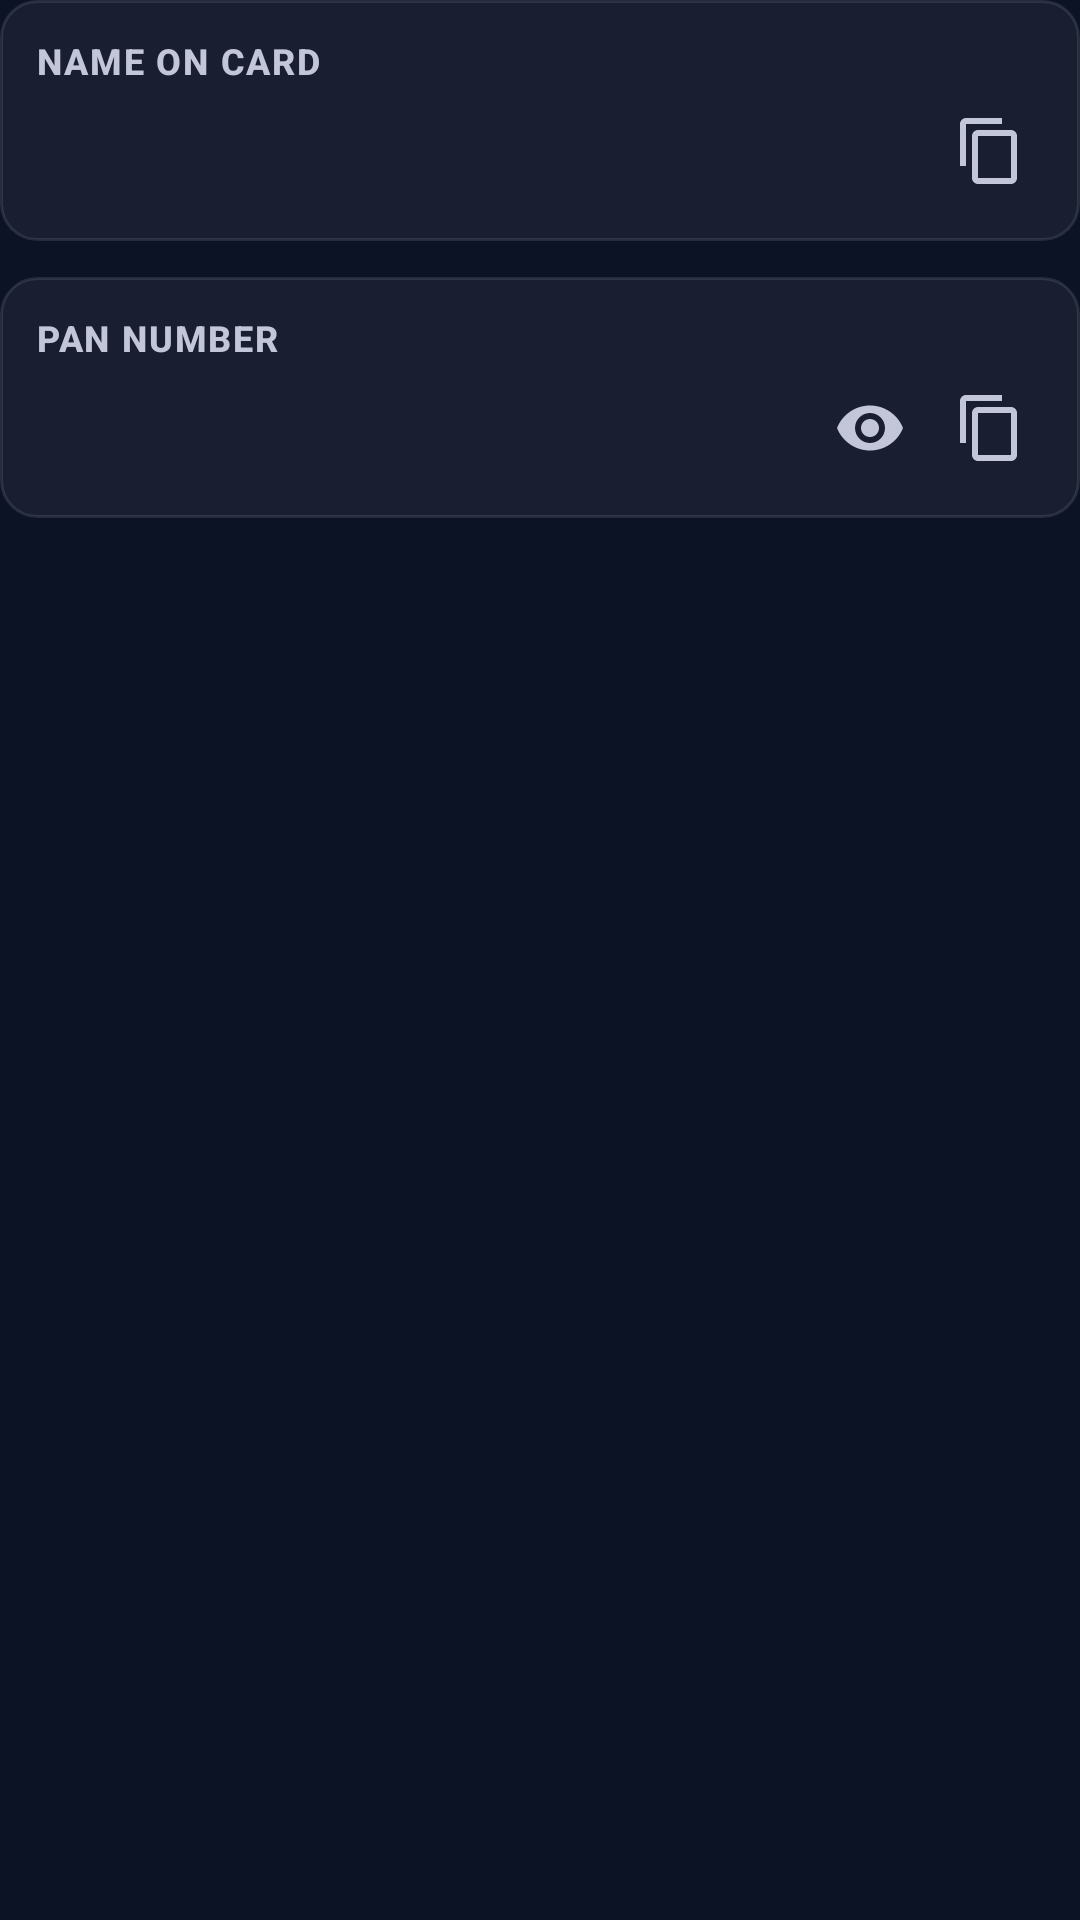

Screen size 1080px x 1920px. Icon name, then its center in pixels as (x=x, y=y):
Copy: (x=988, y=151), (x=988, y=428)
